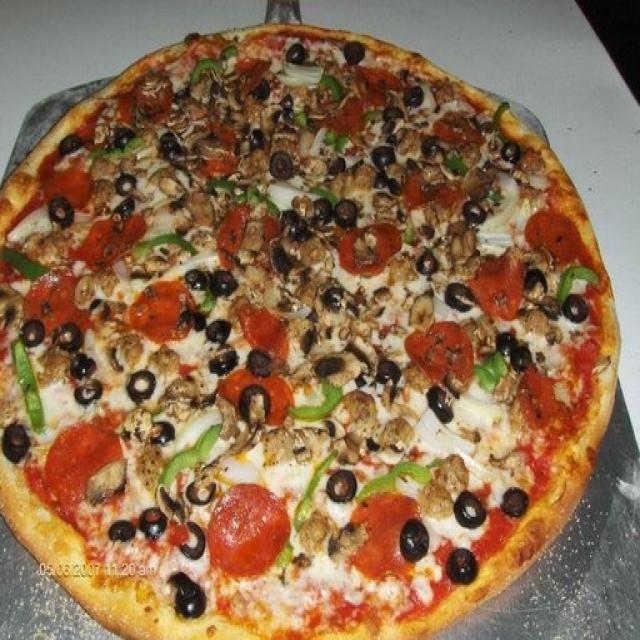Green Pepper: (158, 419, 222, 489), (163, 416, 225, 479), (292, 447, 338, 524), (11, 336, 46, 430), (356, 462, 432, 496), (558, 262, 604, 306), (287, 382, 344, 416), (0, 236, 46, 274), (140, 229, 200, 253), (224, 175, 268, 204), (473, 352, 506, 390), (490, 95, 512, 141), (354, 105, 387, 131), (201, 174, 239, 194), (196, 286, 221, 316), (188, 57, 221, 79), (274, 545, 294, 568), (321, 73, 341, 95), (318, 125, 339, 144), (90, 148, 124, 159), (334, 133, 352, 150), (117, 138, 145, 148), (222, 47, 238, 57)
Mushrooms: (353, 287, 397, 351), (326, 166, 378, 220), (266, 315, 316, 366), (158, 370, 207, 420), (84, 450, 132, 500), (335, 386, 376, 443), (311, 338, 361, 382), (309, 290, 353, 340), (291, 262, 331, 312), (113, 396, 158, 440), (292, 511, 338, 554), (378, 412, 416, 454), (91, 91, 119, 148), (348, 325, 374, 386), (407, 282, 435, 338), (175, 190, 213, 230), (272, 238, 302, 288), (150, 152, 181, 200), (370, 192, 409, 230), (446, 213, 475, 263), (440, 245, 479, 282), (109, 332, 145, 372), (422, 476, 455, 519), (91, 156, 116, 212), (389, 126, 426, 162), (264, 120, 304, 153), (437, 449, 464, 497), (316, 282, 347, 322), (86, 298, 128, 327), (335, 516, 364, 556), (304, 228, 332, 269), (463, 160, 494, 194), (281, 546, 310, 582), (136, 456, 162, 494), (294, 150, 330, 177), (151, 343, 183, 373), (212, 90, 245, 119), (389, 250, 419, 281), (452, 131, 482, 160), (71, 267, 91, 308), (418, 195, 446, 222), (243, 149, 270, 177), (186, 98, 210, 126), (249, 99, 278, 121), (120, 146, 138, 179), (230, 113, 247, 143)
Olives: (334, 226, 401, 276), (166, 569, 213, 623), (166, 565, 207, 618), (454, 487, 490, 533), (125, 361, 160, 407), (442, 548, 484, 584), (123, 361, 156, 406), (0, 418, 30, 466), (398, 522, 432, 560), (64, 379, 107, 409), (66, 348, 105, 379), (428, 382, 457, 420), (326, 467, 356, 502), (447, 277, 477, 312), (177, 522, 205, 559), (280, 206, 308, 242), (157, 132, 186, 165), (503, 488, 532, 519), (132, 504, 163, 532), (494, 133, 525, 161), (269, 146, 296, 178), (204, 319, 236, 346), (54, 318, 82, 348), (111, 506, 133, 544), (332, 197, 360, 226), (308, 193, 332, 224), (213, 266, 238, 295), (49, 194, 70, 228), (371, 145, 402, 168), (57, 133, 90, 154), (341, 40, 369, 64), (210, 346, 238, 370), (375, 357, 401, 382), (416, 249, 443, 273), (190, 481, 218, 504), (22, 313, 44, 342), (524, 271, 554, 292), (567, 291, 587, 322), (424, 132, 446, 160), (500, 332, 520, 362), (463, 196, 485, 221), (250, 122, 266, 156), (282, 44, 308, 64), (255, 73, 272, 103), (326, 151, 348, 173), (514, 347, 530, 374), (406, 80, 422, 107), (415, 221, 434, 242), (388, 104, 406, 122), (386, 177, 402, 197), (377, 166, 390, 187), (280, 97, 296, 112)
Onions: (418, 416, 496, 484), (508, 310, 570, 375), (167, 393, 223, 458), (492, 168, 526, 230), (332, 261, 392, 291), (266, 180, 321, 211), (162, 246, 212, 280), (110, 255, 139, 300), (281, 62, 323, 91), (478, 221, 516, 253), (222, 464, 266, 487), (134, 186, 168, 213), (548, 271, 586, 293), (132, 153, 164, 179), (558, 314, 582, 343), (429, 291, 453, 317), (519, 167, 548, 186), (432, 102, 476, 114), (403, 272, 426, 294), (423, 81, 438, 112)
Pepperoni: (208, 478, 288, 583), (44, 418, 131, 512), (345, 498, 422, 590), (218, 363, 293, 429), (406, 319, 471, 389), (27, 263, 83, 340), (220, 205, 274, 281), (72, 214, 144, 270), (133, 279, 196, 339), (474, 248, 522, 323), (240, 298, 287, 362), (529, 204, 579, 259), (83, 95, 133, 148), (405, 162, 460, 210), (341, 60, 404, 101), (193, 124, 238, 181), (43, 164, 91, 208), (520, 367, 555, 425), (137, 72, 167, 121), (434, 113, 476, 143), (236, 50, 265, 89), (328, 99, 362, 132)
Pizza: (0, 26, 619, 636)
